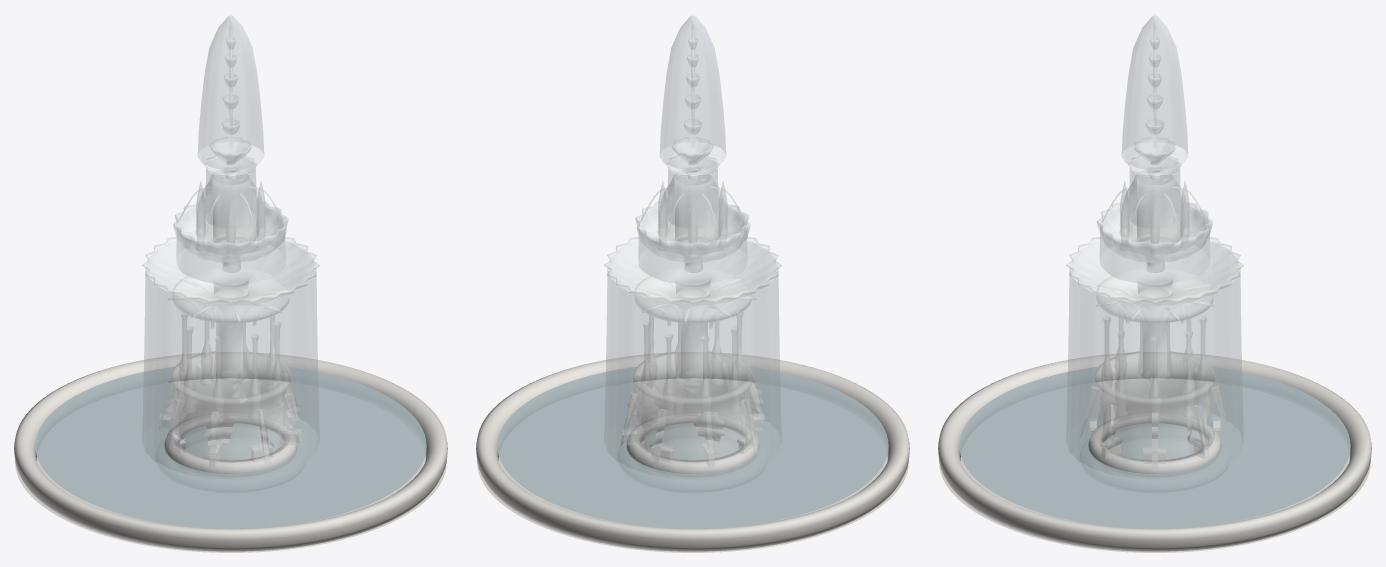
File: osler-crystal-fountain.glb
The picture shows the model from 3 angles, left to right: view 1: azimuth 30°, elevation 25°; view 2: azimuth 150°, elevation 25°; view 3: azimuth 270°, elevation 25°; orthographic projection.
Visible parts, largest first — view 1: BasinWater, WaterSheetGreat, BasinRim, BaseDrum, WaterBell, GreatDish, BasinFloor, WaterSheetBowl, MiddleDrum, StepUpper, WideBowl, ArcadePlate (+4 smaller); view 2: BasinWater, WaterSheetGreat, BasinRim, BaseDrum, WaterBell, GreatDish, BasinFloor, WaterSheetBowl, MiddleDrum, StepUpper, WideBowl, ArcadePlate (+4 smaller); view 3: BasinWater, WaterSheetGreat, BasinRim, BaseDrum, WaterBell, GreatDish, BasinFloor, WaterSheetBowl, MiddleDrum, StepUpper, ArcadePlate, WideBowl (+4 smaller).
Boxes of the visible parts, x1,y1,x2,y2 form: BasinWater: [35, 367, 426, 528]; WaterSheetGreat: [142, 268, 319, 478]; BasinRim: [14, 352, 447, 551]; BaseDrum: [171, 351, 290, 461]; WaterBell: [198, 16, 263, 169]; GreatDish: [142, 237, 319, 305]; BasinFloor: [15, 378, 446, 552]; WaterSheetBowl: [176, 208, 285, 283]; MiddleDrum: [199, 170, 262, 247]; StepUpper: [164, 412, 297, 473]; WideBowl: [173, 201, 288, 262]; ArcadePlate: [172, 276, 289, 322]; BasinWater: [497, 367, 888, 528]; WaterSheetGreat: [604, 268, 781, 478]; BasinRim: [476, 352, 909, 551]; BaseDrum: [633, 351, 752, 461]; WaterBell: [660, 16, 725, 169]; GreatDish: [604, 237, 781, 305]; BasinFloor: [477, 378, 908, 552]; WaterSheetBowl: [638, 208, 747, 283]; MiddleDrum: [661, 170, 724, 247]; StepUpper: [626, 412, 759, 473]; WideBowl: [635, 201, 750, 262]; ArcadePlate: [634, 276, 751, 322]; BasinWater: [959, 367, 1350, 528]; WaterSheetGreat: [1066, 268, 1243, 478]; BasinRim: [938, 352, 1371, 551]; BaseDrum: [1095, 351, 1214, 461]; WaterBell: [1122, 16, 1187, 169]; GreatDish: [1066, 237, 1243, 305]; BasinFloor: [939, 378, 1370, 552]; WaterSheetBowl: [1100, 207, 1209, 284]; MiddleDrum: [1123, 170, 1186, 247]; StepUpper: [1088, 412, 1221, 473]; ArcadePlate: [1096, 276, 1213, 322]; WideBowl: [1097, 203, 1212, 262].
Size of the model in its own units: 7.23 by 8.23 by 7.23.
